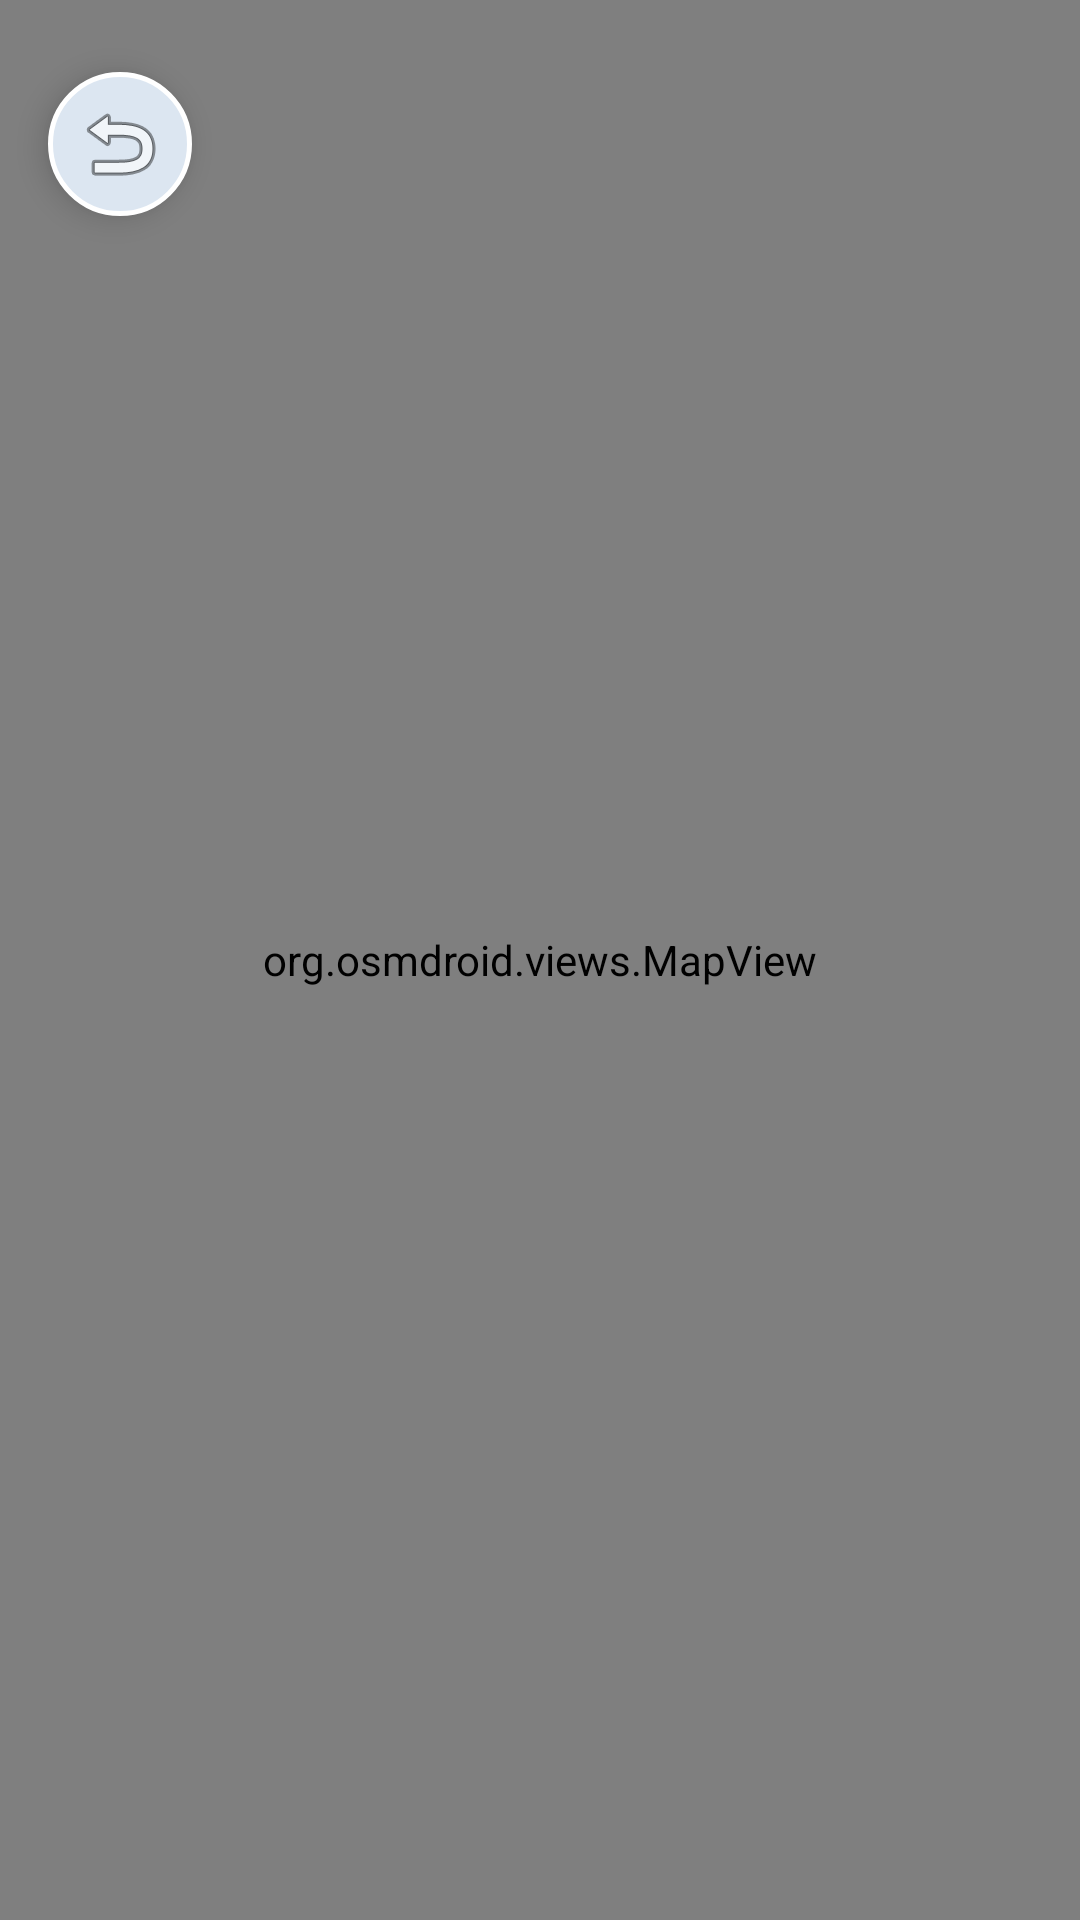

Screen size 1080 x 1920. Icon name, then its center in pixels as (x=x, y=y):
Back: (x=120, y=144)
